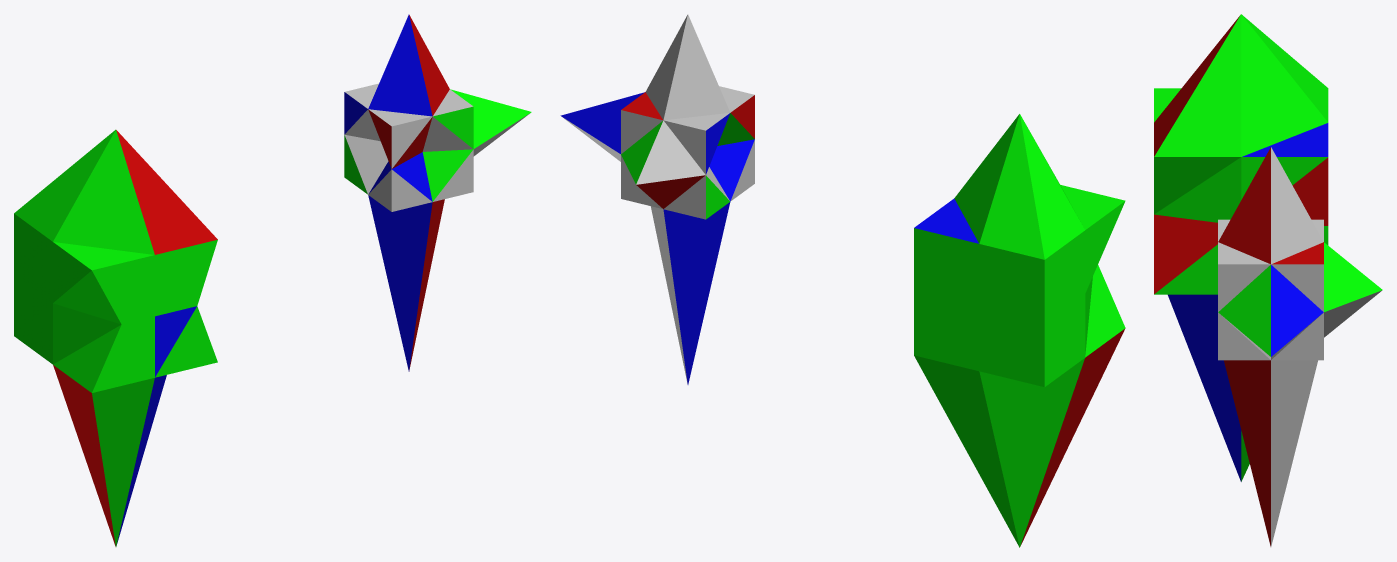
File: crappy.obj
The picture shows the model from 3 angles, left to right: view 1: azimuth 30°, elevation 25°; view 2: azimuth 150°, elevation 25°; view 3: azimuth 270°, elevation 25°; orthographic projection. The views are drawn at different scales.
Visible parts, largest first — view 1: Mothership_Cube.003, Station_Cube; view 2: Mothership_Cube.003, Station_Cube; view 3: Mothership_Cube.003, Station_Cube.
Boxes of the visible parts, bbox=[...] form: Mothership_Cube.003: bbox=[14, 129, 217, 546]; Station_Cube: bbox=[344, 14, 531, 371]; Mothership_Cube.003: bbox=[914, 114, 1125, 547]; Station_Cube: bbox=[560, 14, 754, 384]; Mothership_Cube.003: bbox=[1154, 14, 1328, 481]; Station_Cube: bbox=[1218, 147, 1382, 546].
Size of the model in its own units: 12.03 by 10.5 by 4.33.
